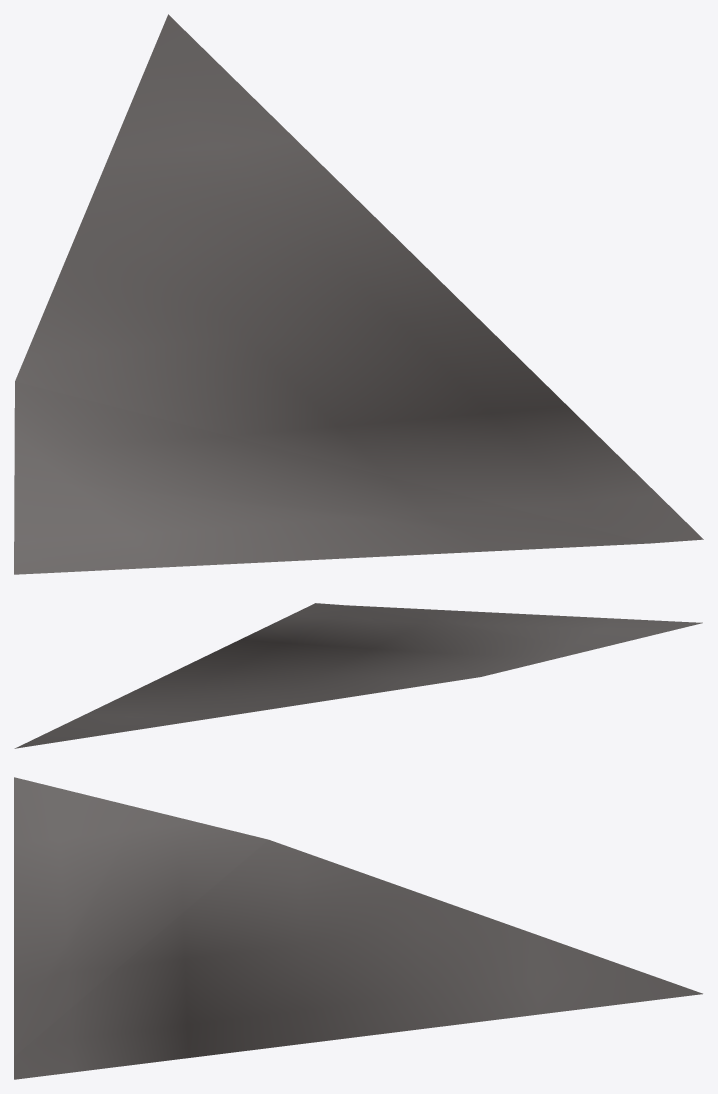
3 renders of one model, top to bottom at view 1: azimuth 30°, elevation 25°; view 2: azimuth 150°, elevation 25°; view 3: azimuth 270°, elevation 25°, orthographic. The views are drawn at different scales.
Size of the model in its own units: 0.0279 by 0.00515 by 0.0375.
1 material, 1 textured.
